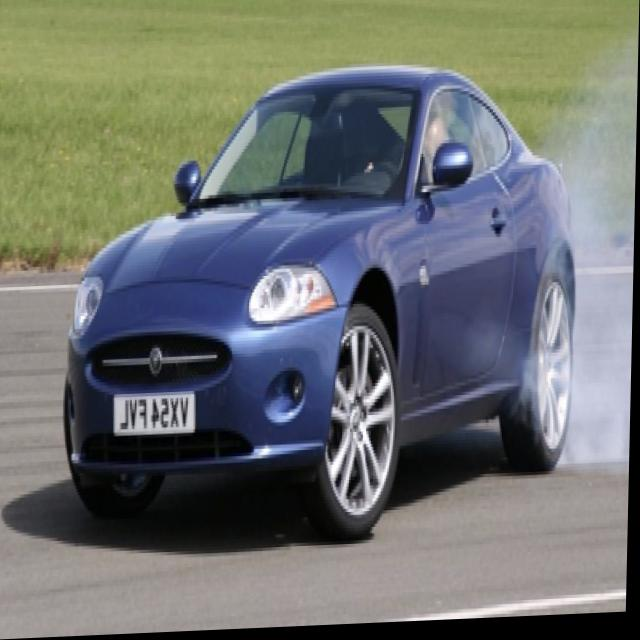licence: (120, 392, 203, 450)
